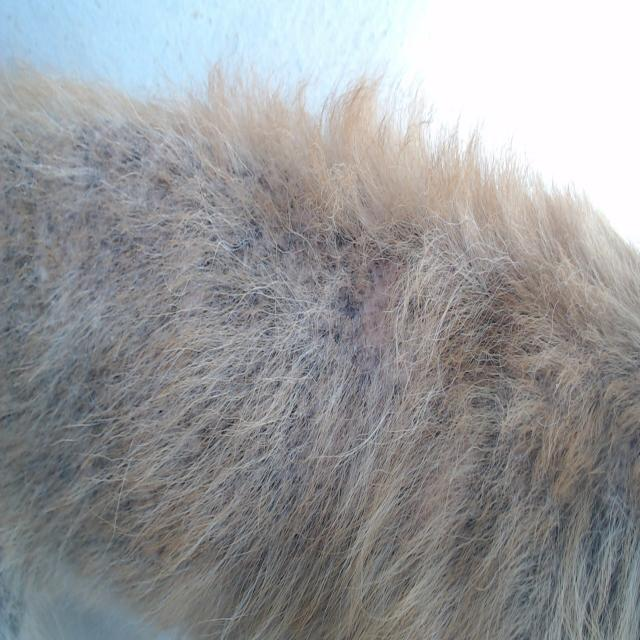demodicosis: (16, 127, 394, 508)
